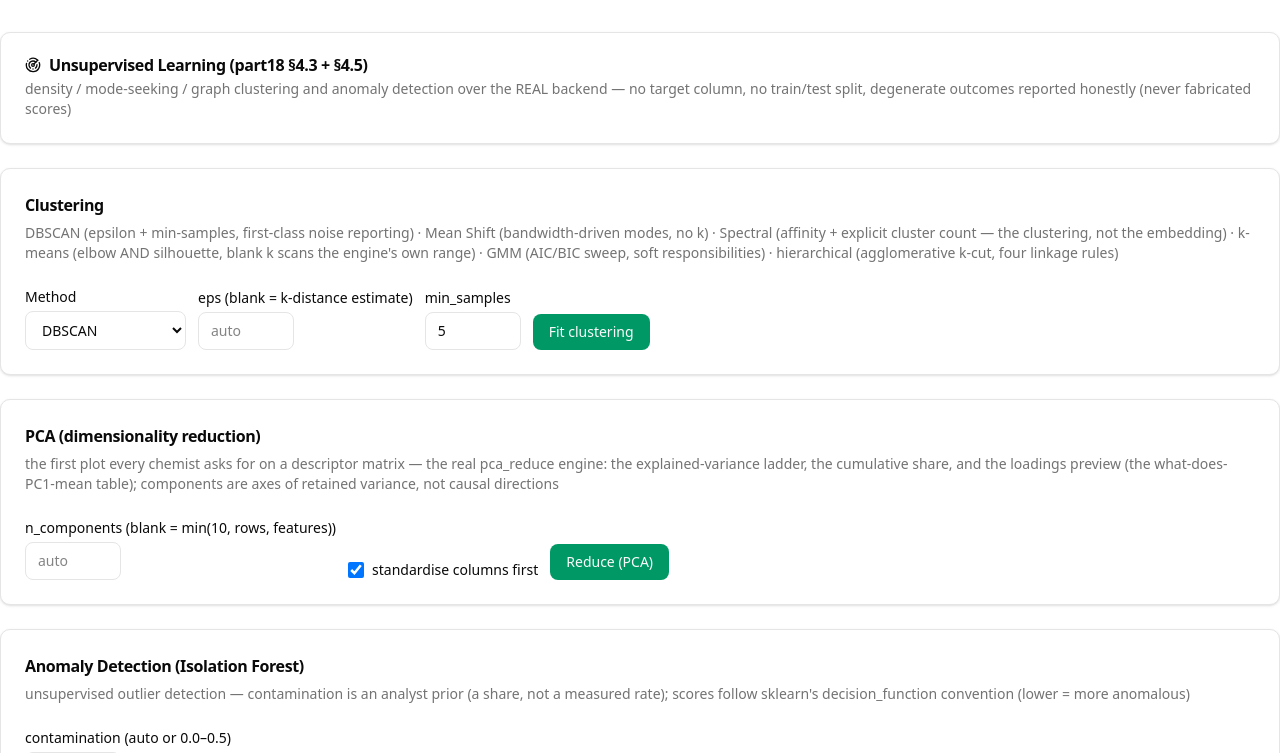
it: the ML-4 unsupervised families (kmeans / gmm / hierarchical + the pca sibling) › POSTs kmeans with a null k (blank = the engine's own scan) and renders the scan table
Select "k-means" in the dropdown named "the clustering method" at (106, 330), box [25,311,186,350]
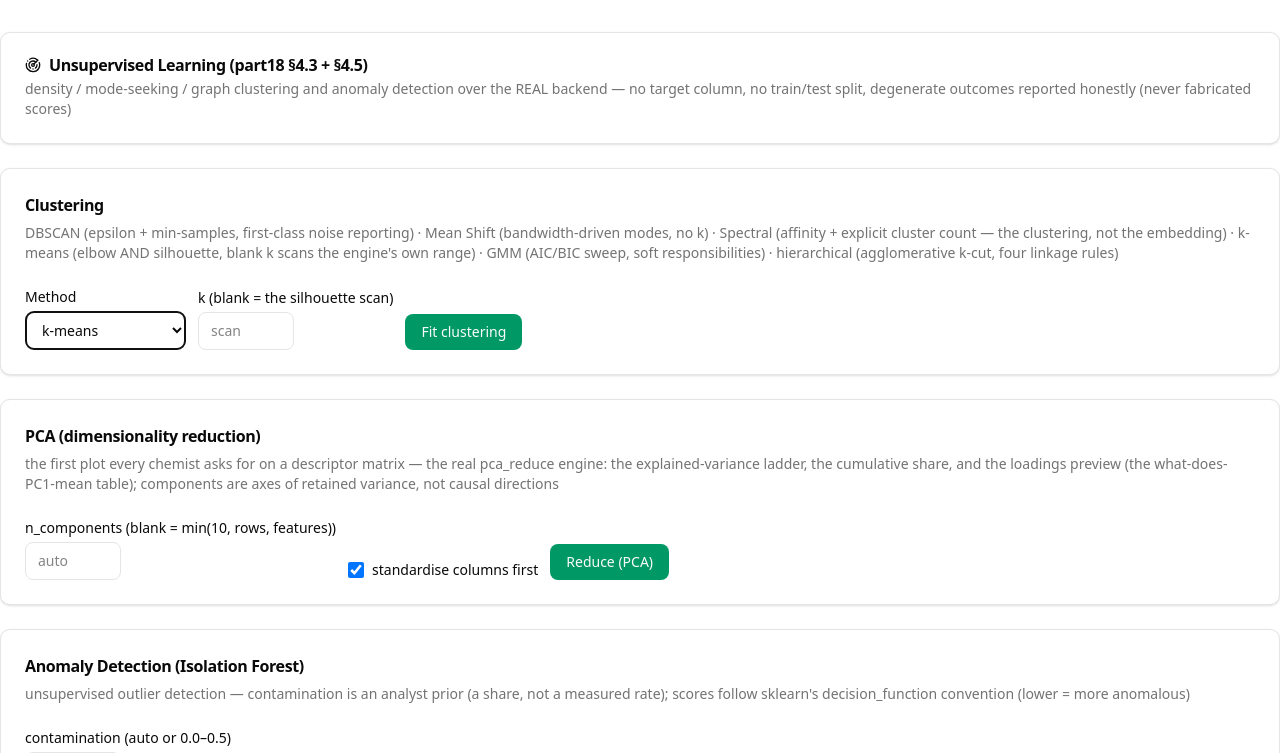
Click the button "Fit clustering" at (464, 332), box [405,314,522,350]
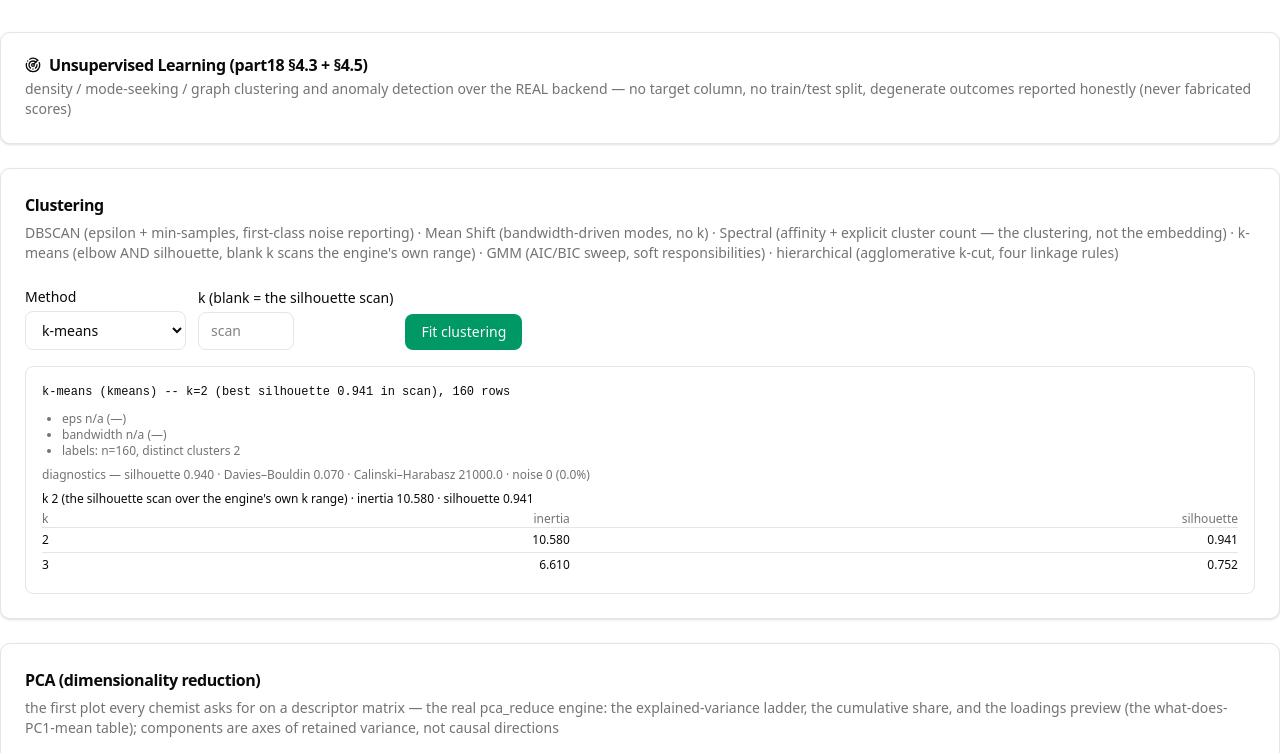
Expected: the text "inertia 10.580" is shown, [42,490,534,506]
Expected: the column heading "silhouette" is shown, [570,510,1238,527]
Expected: the cell "10.580" is shown, [124,527,570,552]
